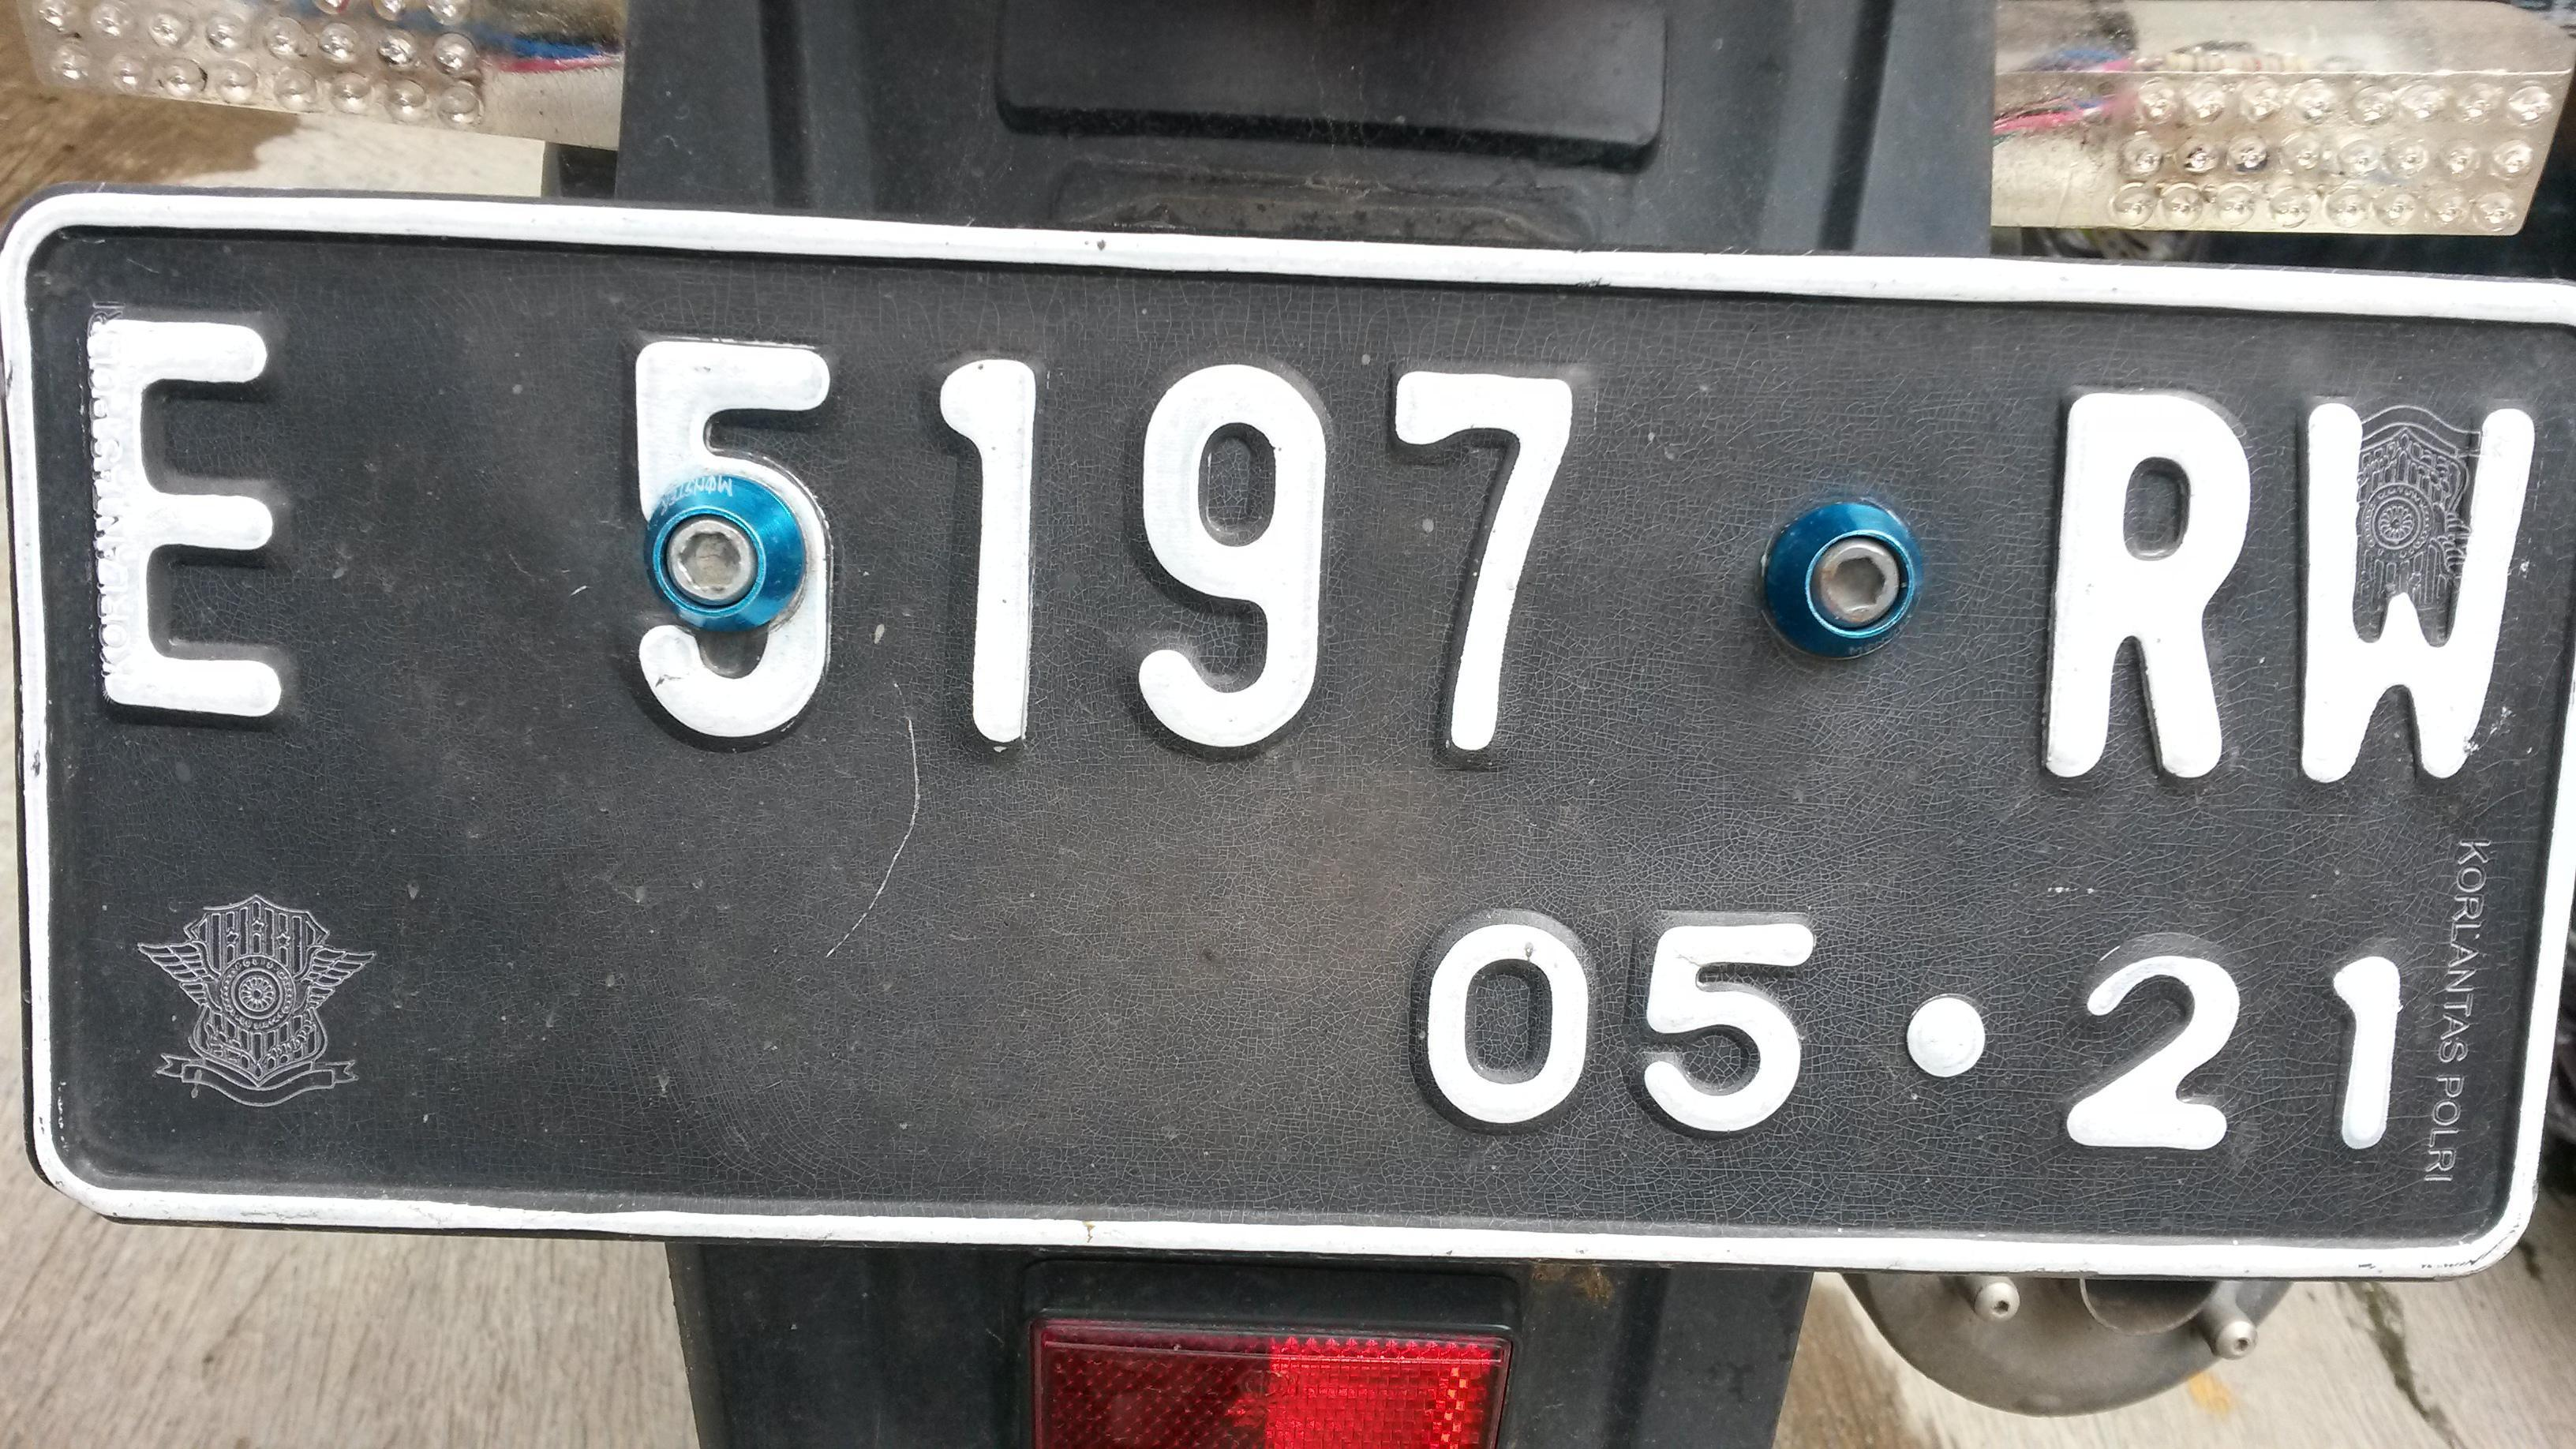1: (887, 338, 1091, 769)
5: (593, 319, 876, 759)
7: (1364, 343, 1609, 788)
9: (1084, 343, 1354, 774)
E: (76, 313, 350, 732)
R: (1990, 381, 2257, 796)
W: (2267, 380, 2544, 796)
